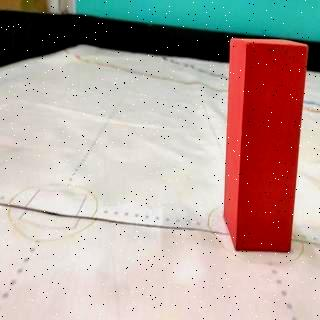redbox: (222, 37, 308, 251)
